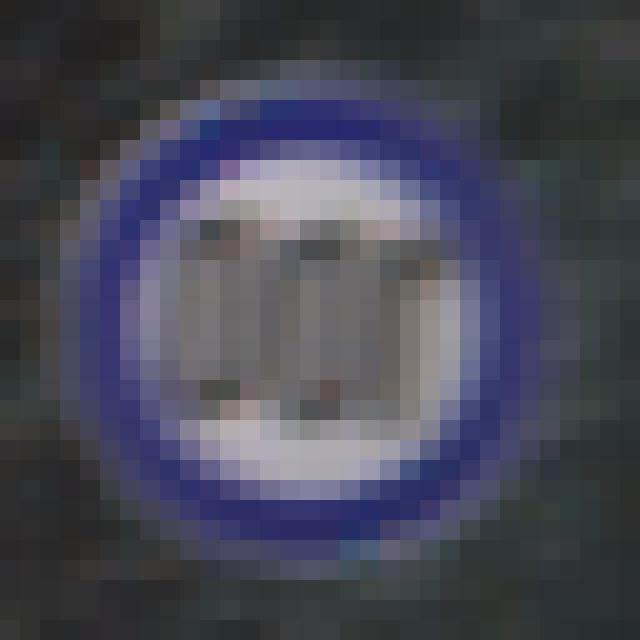SPEED LIMIT 100: (47, 85, 577, 552)
